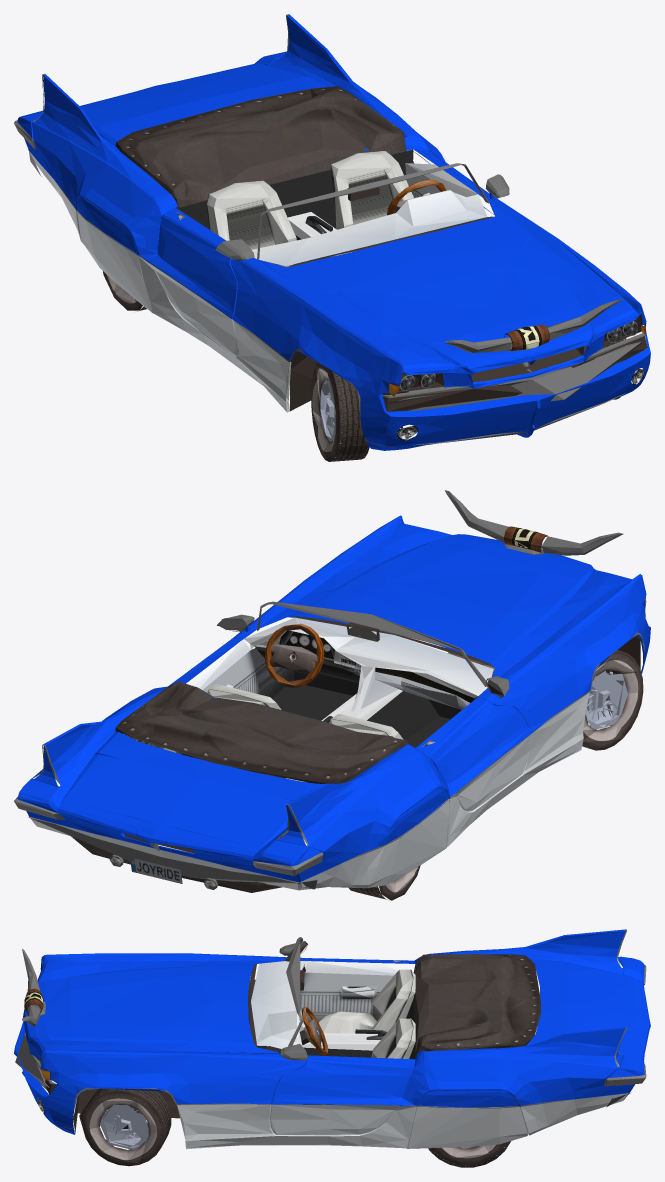
File: classic.glb
3 views of the same model, one above another, from view 1: azimuth 30°, elevation 25°; view 2: azimuth 150°, elevation 25°; view 3: azimuth 270°, elevation 25° (orthographic). The views are drawn at different scales.
Parts seen in each view (by area): view 1: polySurface11.10, object 23, object 22, object 10, polySurface5.4, object 4, object 14, object 15, object 18, object 21, object 17, object 16 (+1 smaller); view 2: polySurface11.10, object 22, object 23, polySurface5.4, object 14, object 16, object 18, object 10, object 21, object 12, object 4, object 11 (+3 smaller); view 3: polySurface11.10, object 23, object 22, object 14, object 10, polySurface5.4, object 16, object 15, object 4, object 21, object 18, object 12 (+1 smaller).
Boxes of the visible parts, x1,y1,x2,y2 form: polySurface11.10: (17, 15, 650, 450); object 23: (115, 86, 406, 207); object 22: (176, 149, 487, 265); object 10: (206, 150, 413, 267); polySurface5.4: (29, 14, 645, 446); object 4: (221, 175, 647, 411); object 14: (103, 271, 339, 461); object 15: (137, 161, 626, 461); object 18: (445, 299, 623, 352); object 21: (76, 200, 408, 428); object 17: (504, 324, 549, 350); object 16: (319, 378, 342, 441); polySurface11.10: (17, 515, 650, 890); object 22: (193, 617, 493, 778); object 23: (115, 681, 409, 783); polySurface5.4: (28, 544, 644, 889); object 14: (156, 650, 643, 900); object 16: (347, 623, 627, 729); object 18: (445, 490, 623, 555); object 10: (207, 684, 403, 775); object 21: (71, 635, 640, 892); object 12: (265, 623, 324, 687); object 4: (125, 616, 503, 853); object 11: (269, 644, 317, 674); polySurface11.10: (14, 929, 650, 1149); object 23: (414, 954, 540, 1055); object 22: (248, 961, 415, 1059); object 14: (83, 1090, 505, 1166); object 10: (319, 969, 415, 1058); polySurface5.4: (15, 929, 630, 1129); object 16: (100, 1104, 474, 1149); object 15: (79, 1088, 510, 1167); object 4: (34, 941, 309, 1112); object 21: (73, 1089, 519, 1133); object 18: (22, 949, 40, 1026); object 12: (302, 1007, 327, 1055).
Size of the model in its own units: 0.4728 by 0.2493 by 1.
Materials: 26 (21 with a texture image).
